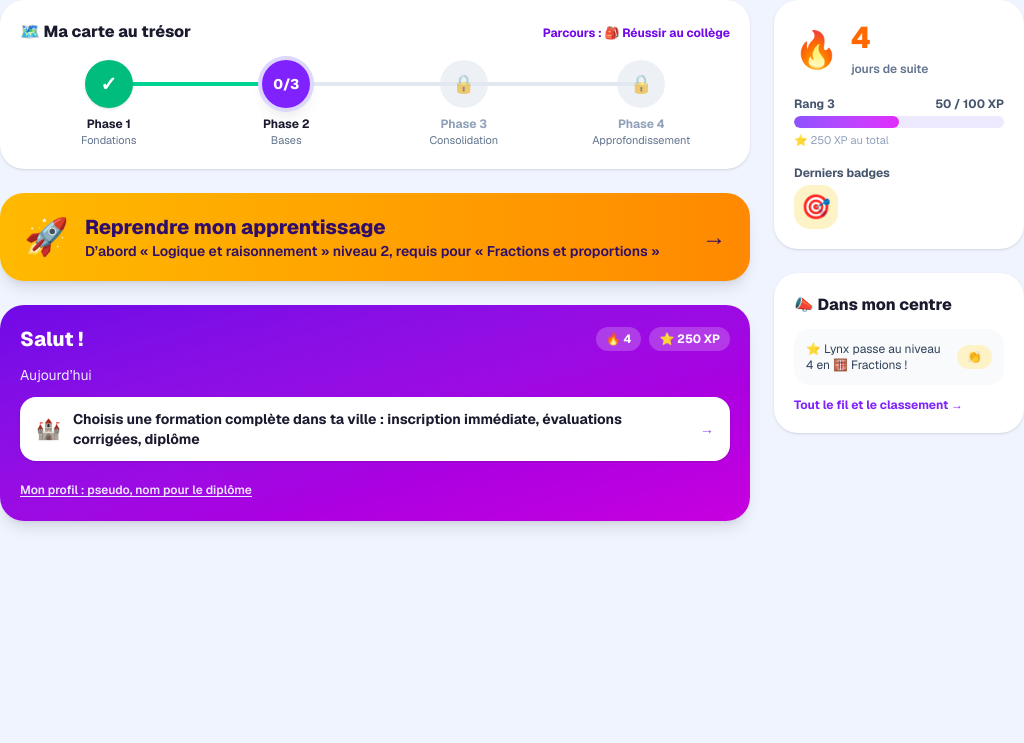
Test: learner command center › opens the detail of the current phase: courses, required level, target date
The image size is (1024, 743).
Click the button named "Phase 2" at [286, 84], box [262,60,310,108]
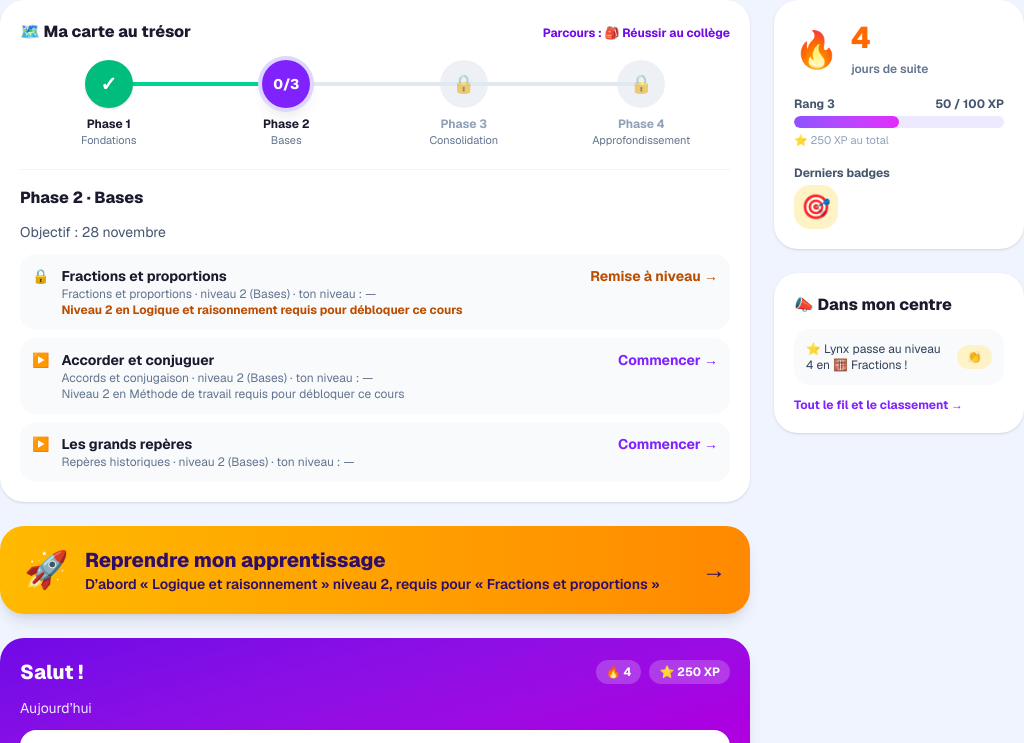
Check: the text "Niveau 2 en Logique et raisonnement requis pour débloquer ce cours" is shown, box [62,302,463,318]
Check: the text "Objectif : 28 novembre" is shown, box [20,222,166,240]
